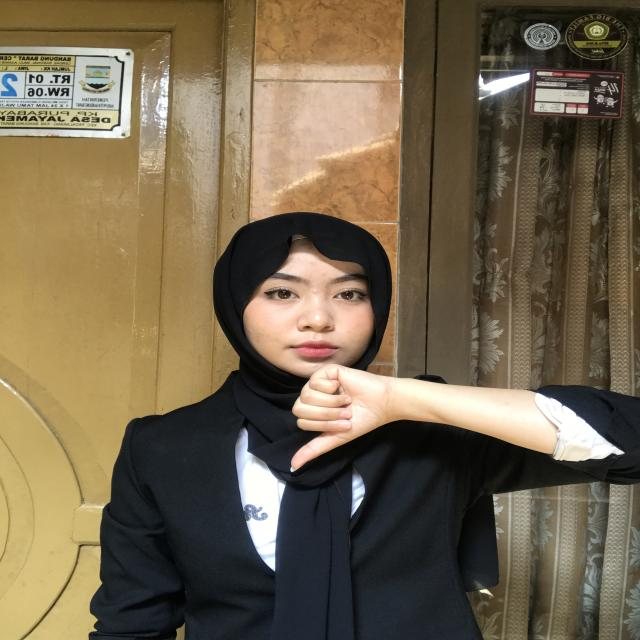sedih: (259, 332, 444, 481)
